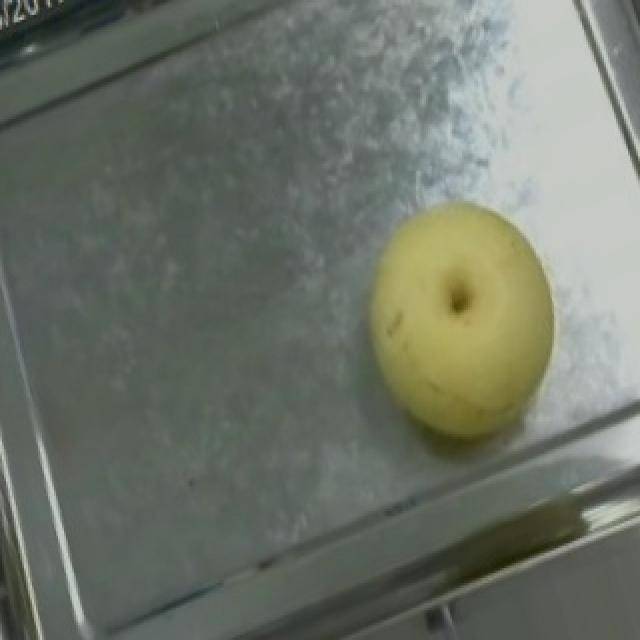Fruit: (318, 169, 604, 481)
